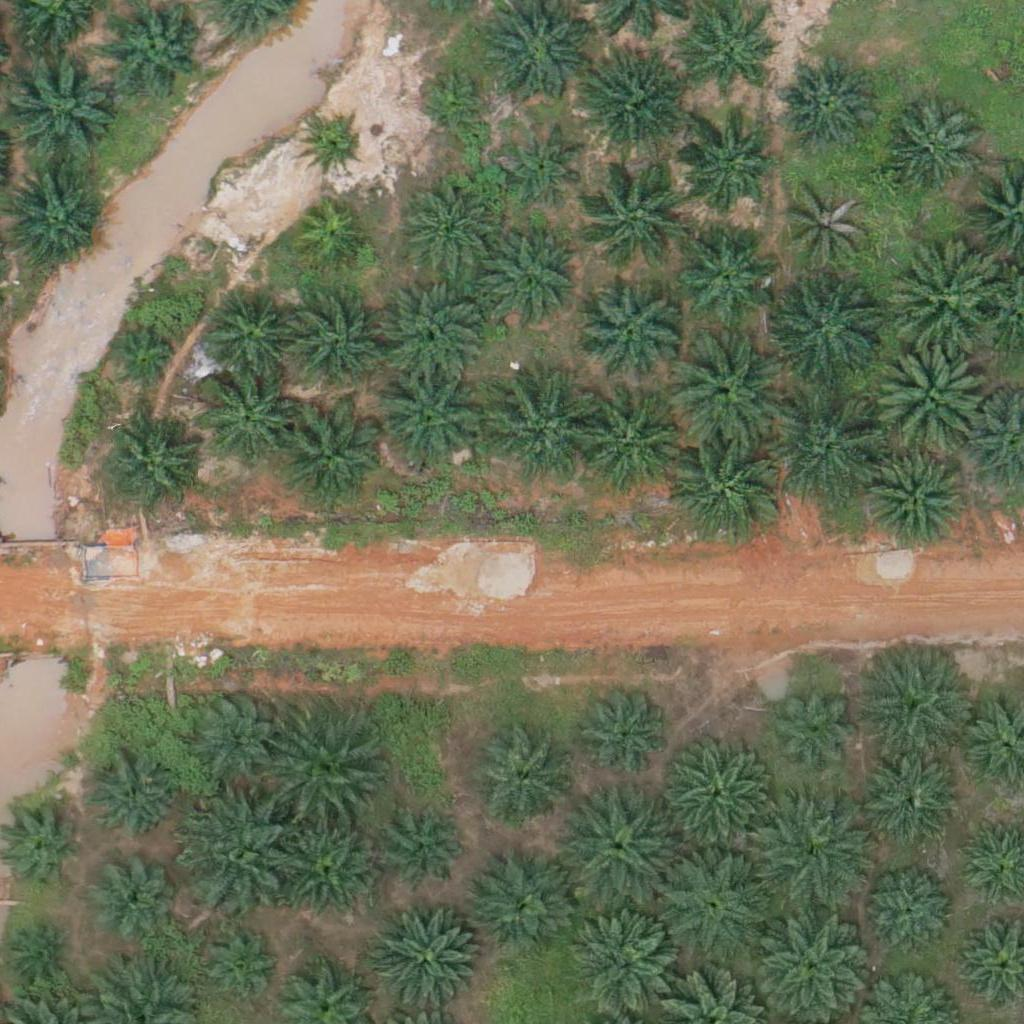Kelapa_Sawit: (758, 799, 871, 912), (656, 740, 769, 853), (570, 910, 683, 1023), (670, 434, 783, 547), (375, 275, 488, 388), (372, 363, 485, 476), (274, 402, 387, 515), (3, 48, 116, 161), (655, 846, 767, 960), (858, 641, 970, 755), (582, 155, 694, 269), (480, 372, 592, 486), (568, 789, 680, 902), (373, 905, 485, 1018), (270, 718, 382, 831), (180, 797, 292, 910), (886, 240, 998, 353), (873, 338, 985, 451), (775, 393, 887, 506), (771, 272, 883, 385), (669, 334, 781, 447), (570, 391, 682, 504), (573, 52, 685, 165), (574, 683, 674, 784), (469, 856, 569, 957), (276, 816, 376, 917), (182, 683, 282, 784), (860, 753, 960, 854), (879, 98, 979, 199), (675, 118, 775, 219), (577, 280, 677, 381), (477, 231, 577, 332), (285, 297, 385, 398), (200, 288, 300, 389), (2, 169, 102, 270), (102, 414, 202, 515), (473, 733, 573, 833), (864, 450, 964, 550), (776, 53, 876, 153), (675, 222, 775, 322), (400, 179, 500, 279), (195, 368, 295, 468), (500, 125, 588, 213), (88, 754, 175, 843), (775, 686, 862, 774), (382, 807, 469, 895), (195, 924, 282, 1012), (88, 853, 175, 941), (870, 871, 957, 959), (785, 184, 872, 272), (687, 14, 774, 102), (417, 64, 492, 139), (293, 202, 368, 277), (108, 326, 183, 401), (302, 115, 365, 178), (18, 929, 68, 979)
